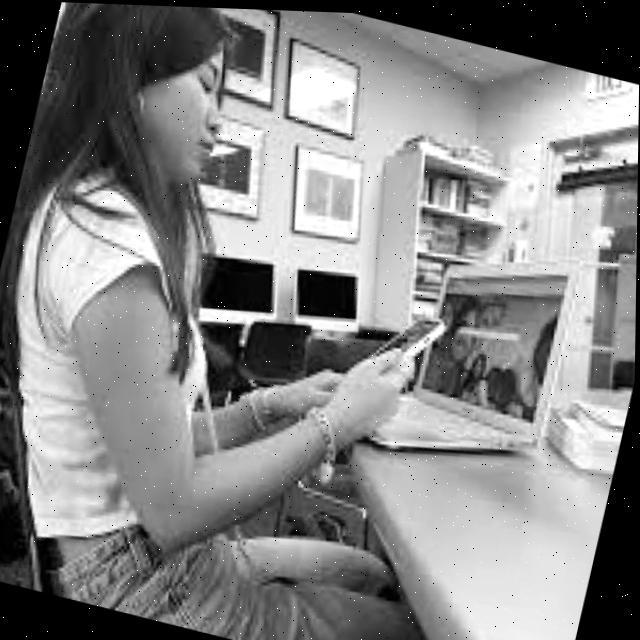phone: (365, 294, 460, 376)
